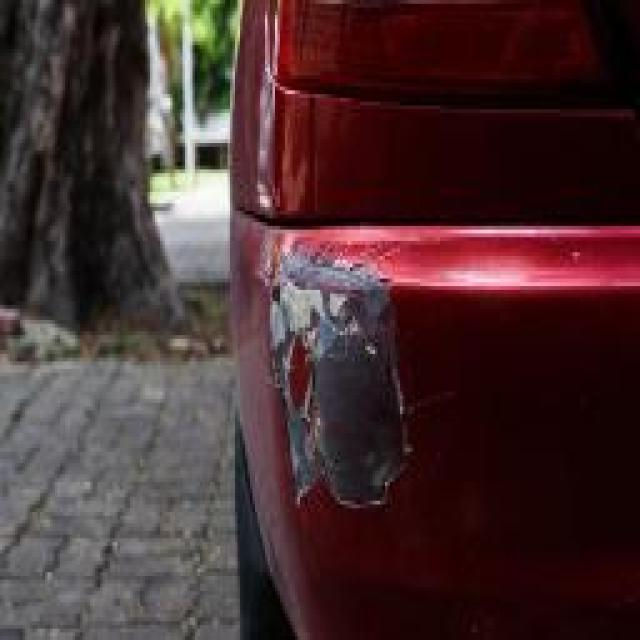Bumper: (248, 222, 640, 625)
